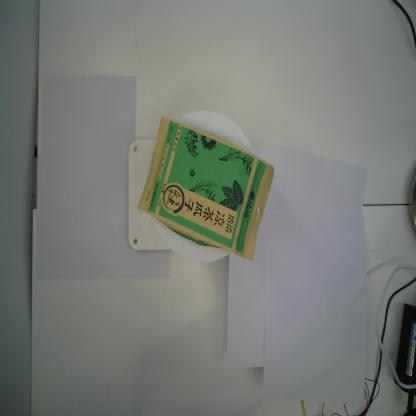Dried Food: (136, 113, 276, 262)
